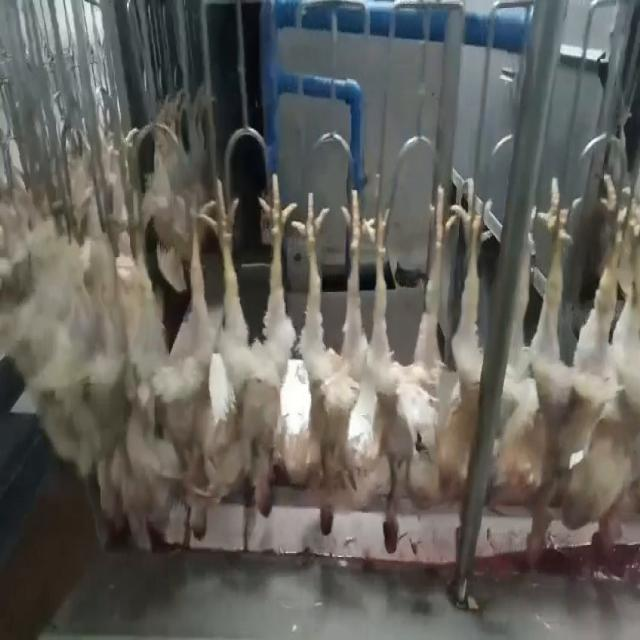chicken: (362, 175, 450, 562), (496, 172, 576, 570), (566, 166, 636, 570), (291, 183, 370, 539), (146, 198, 217, 548), (219, 175, 287, 520), (444, 169, 492, 513)
